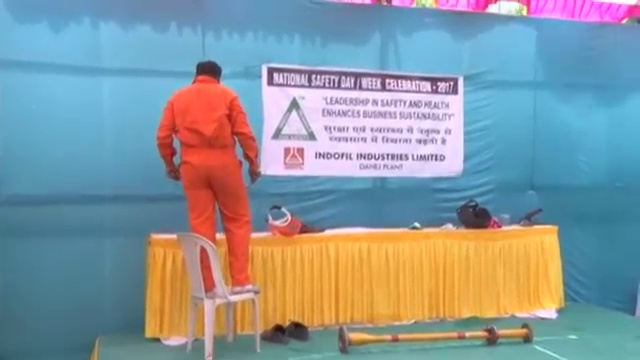helmet_off: (192, 55, 223, 84)
person: (160, 54, 262, 294)
